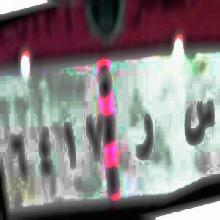1: (59, 110, 79, 174)
4: (36, 117, 56, 186)
6: (10, 127, 32, 183)
7: (84, 110, 105, 166)
raa: (133, 104, 160, 168)
seen: (180, 92, 217, 160)
